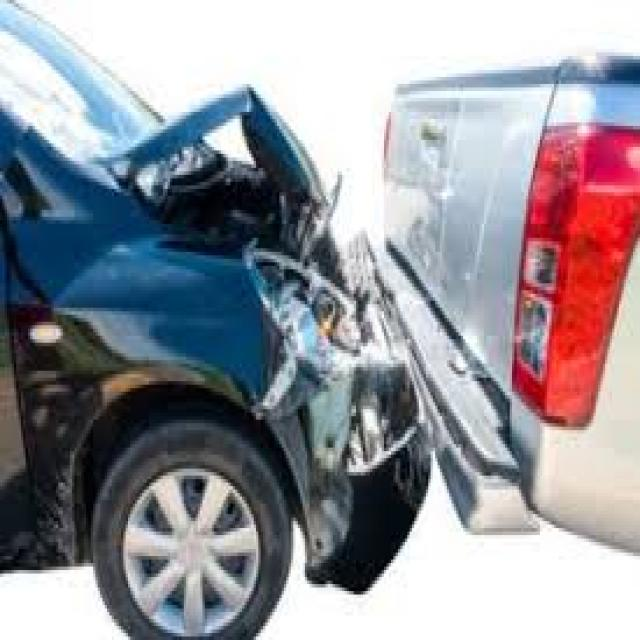accident: (123, 42, 584, 589)
